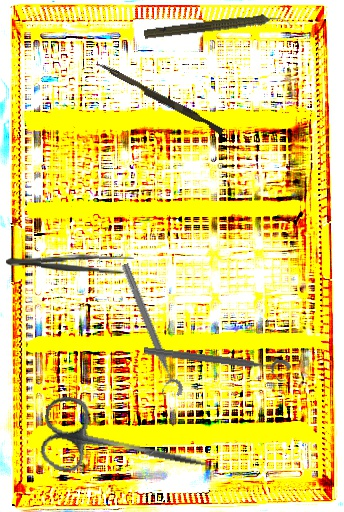Dressing Forceps: (5, 251, 135, 276)
Fixation Ring: (110, 261, 186, 402), (142, 343, 292, 384)
Handpiece: (143, 9, 291, 45)
Iris Scissors: (35, 393, 218, 499)
Pusher: (93, 61, 226, 135)
